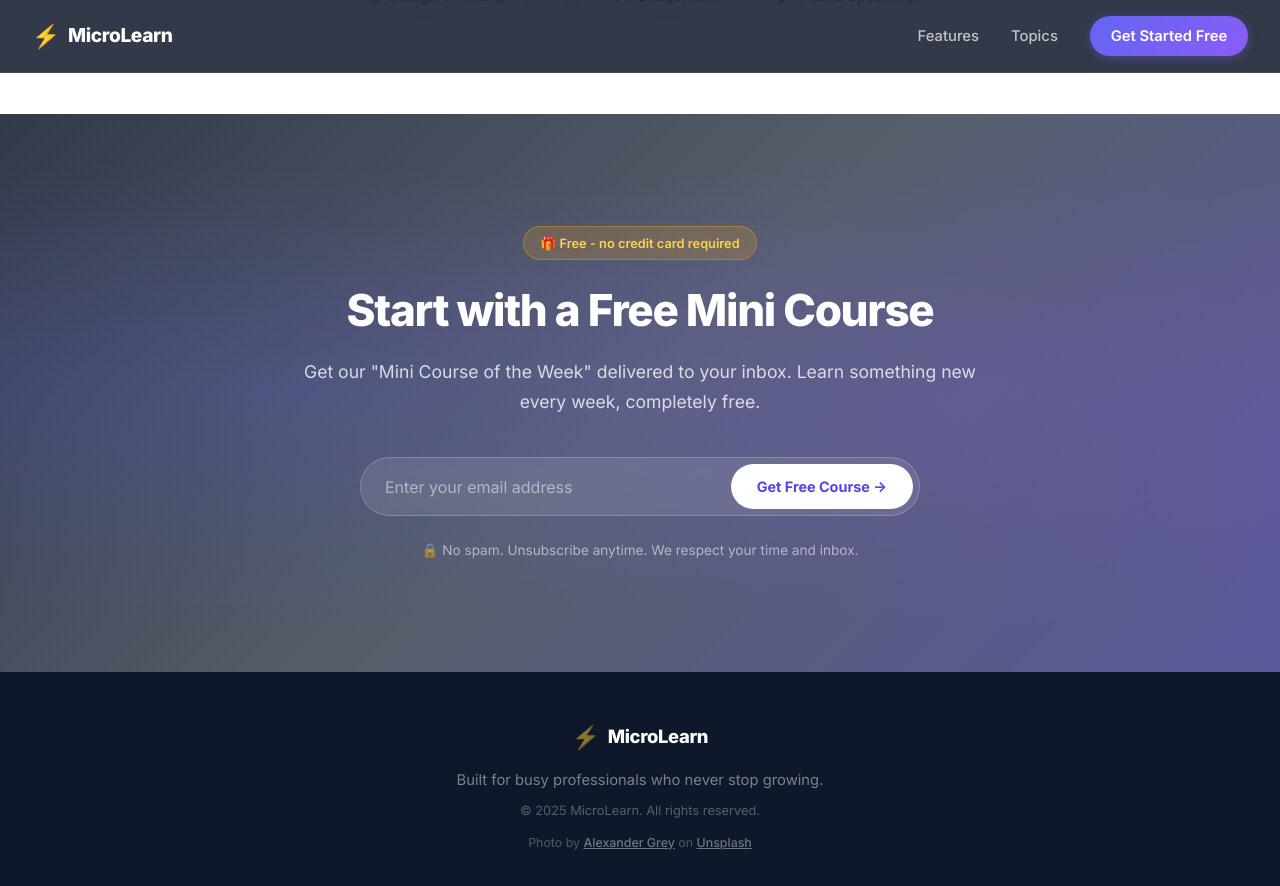
Test: Email sign-up form › shows the success message after a valid email is submitted
This screenshot has width=1280, height=886.
(page scrolled)
Step 1. Type "test@example.com" into the field with placeholder "Enter your email address" → coordinates (554, 486), box [385,464,723,509]
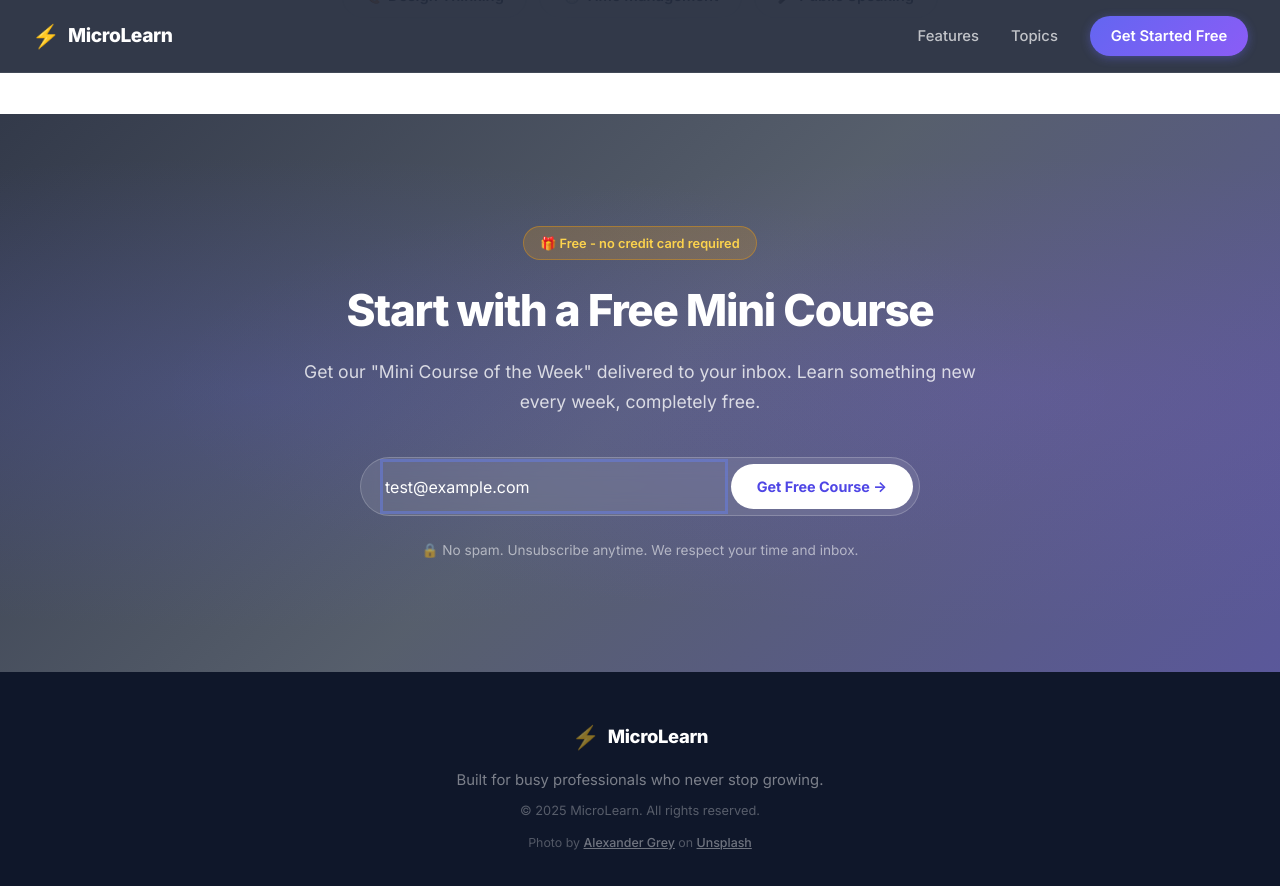
Step 2. Click the button "Get Free Course →" → coordinates (822, 486), box [731,464,913,509]
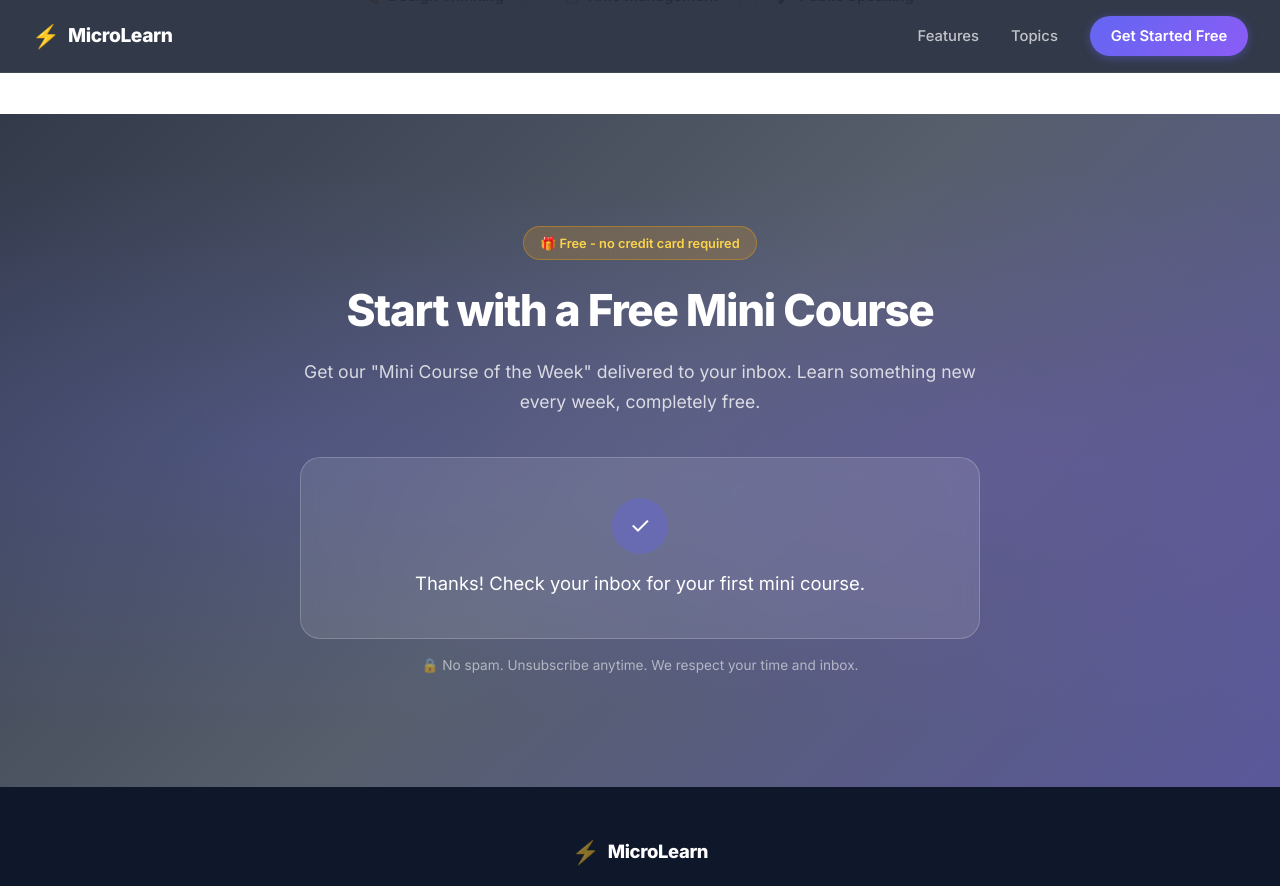
Result: the text "Thanks! Check your inbox for your first mini course." is shown at [415,572,865,594]
